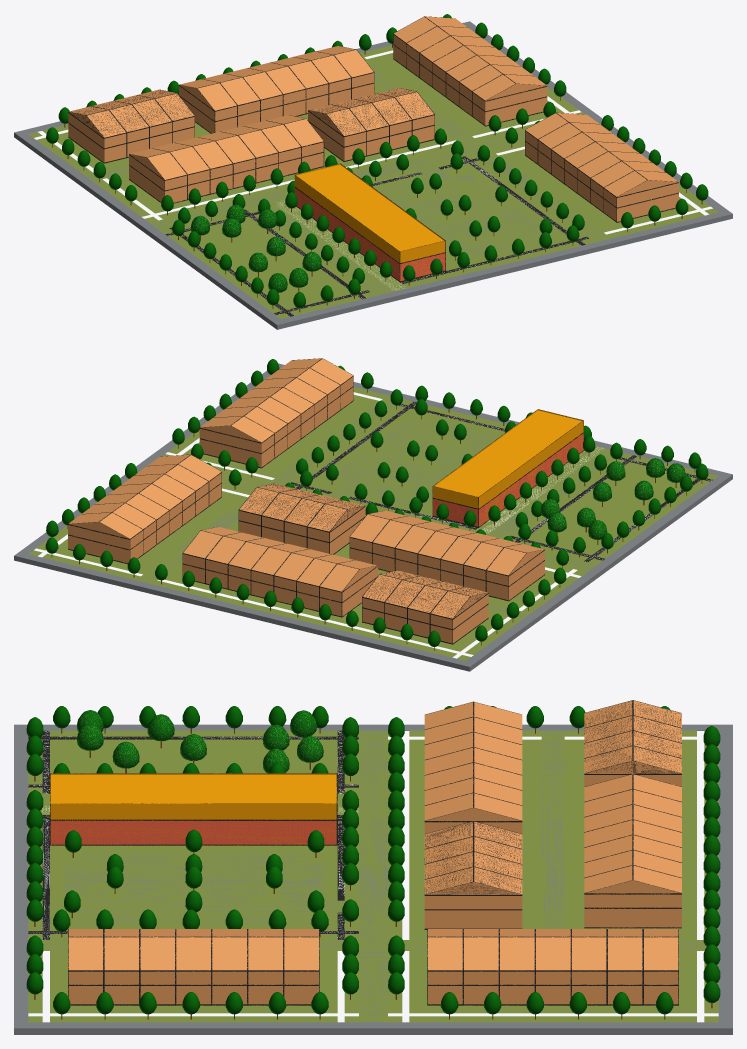
File: mixed-use_02-blake.dae
3 views of the same model, one above another, from view 1: azimuth 30°, elevation 25°; view 2: azimuth 150°, elevation 25°; view 3: azimuth 270°, elevation 25° (orthographic). The views are drawn at different scales.
Visible parts, largest first — view 1: group_1 (×17), Component_2 (×48), group_0 (×6); view 2: group_1 (×16), Component_2 (×48), group_0 (×6); view 3: group_1 (×14), Component_2 (×75), group_0 (×4), Tree_z_Icon_3_1 (×7).
Part boxes in pixels (x1,y1,x2,y2): group_1 (×17): (14,21,732,329); Component_2 (×48): (68,17,678,221); group_0 (×6): (294,163,445,282); group_1 (×16): (14,363,732,671); Component_2 (×48): (68,359,544,643); group_0 (×6): (432,409,583,527); group_1 (×14): (14,724,732,1034); Component_2 (×75): (68,700,681,1004); group_0 (×4): (50,773,337,845); Tree_z_Icon_3_1 (×7): (77,710,323,768).
Bounding box in the file's own units: 96.1 × 96.1 × 8.07.
